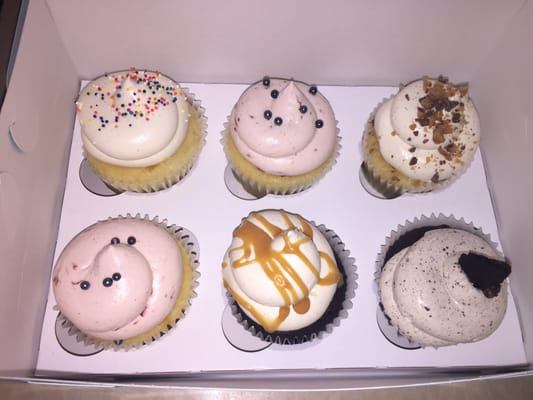salad: (51, 217, 195, 349), (75, 68, 208, 194), (377, 227, 511, 347), (221, 209, 344, 334), (222, 77, 339, 198), (364, 76, 480, 198)
